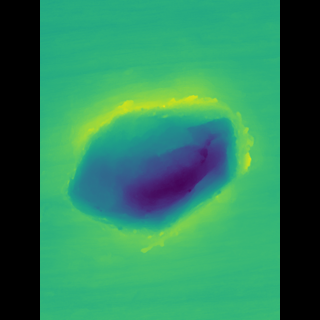Loch: (83, 75, 246, 259)
